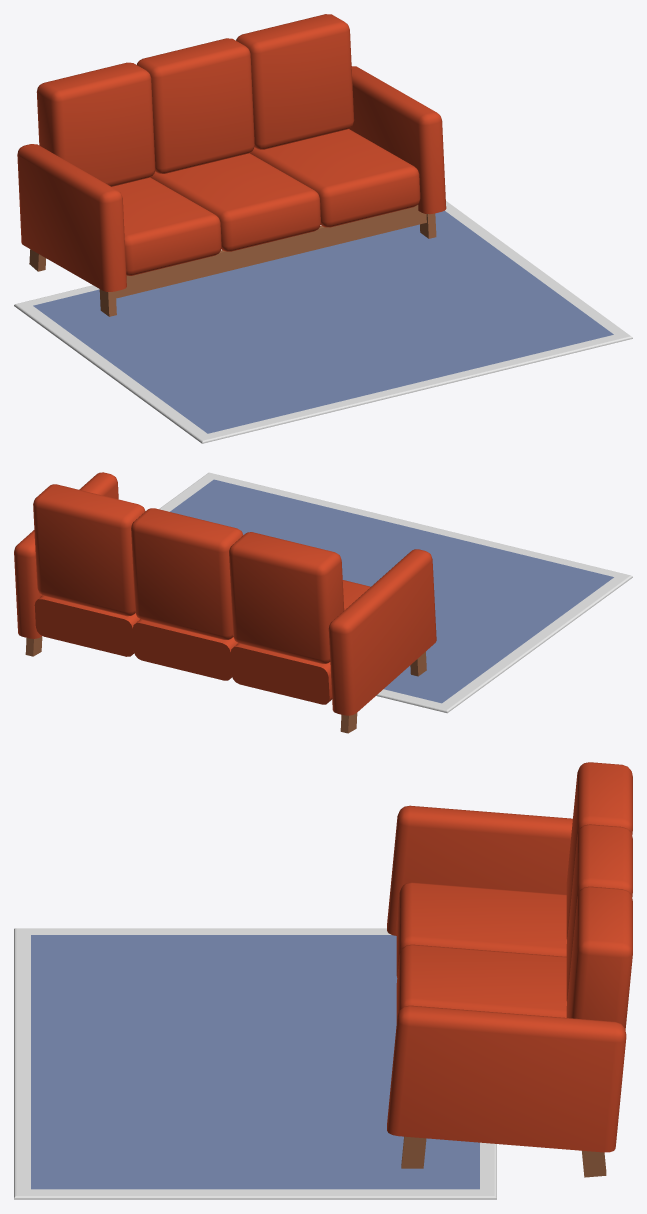
Rendered from Couch.fbx.
3 views of the same model, one above another, from view 1: azimuth 30°, elevation 25°; view 2: azimuth 150°, elevation 25°; view 3: azimuth 270°, elevation 25° (orthographic). The views are drawn at different scales.
Visible parts, largest first — view 1: Couch 2, Plane.053, Cube.046; view 2: Couch 2, Plane.053; view 3: Plane.053, Couch 2, Cube.048.
Boxes of the visible parts, box(x1,y1,x2,y2) form: Couch 2: box(17, 14, 446, 291); Plane.053: box(14, 201, 632, 443); Cube.046: box(115, 205, 426, 298); Couch 2: box(14, 472, 436, 715); Plane.053: box(159, 472, 632, 713); Plane.053: box(14, 928, 496, 1199); Couch 2: box(387, 762, 632, 1152); Cube.048: box(401, 1136, 426, 1168).
Bounding box in the file's own units: 138 × 55.22 × 134.
